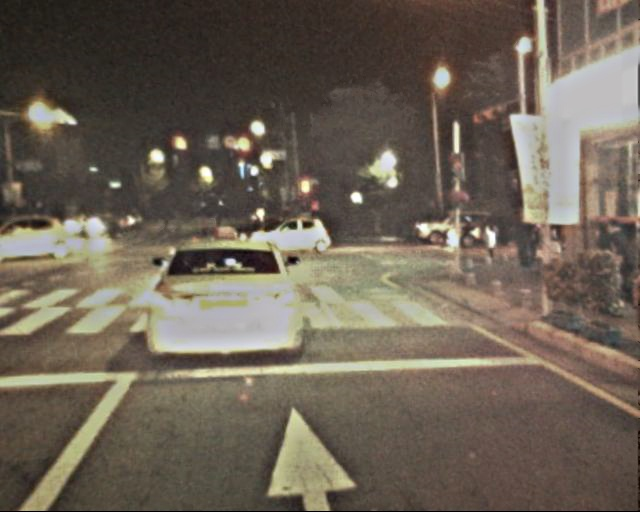person: (598, 213, 631, 311), (518, 210, 542, 274), (480, 220, 500, 271), (153, 207, 167, 242), (196, 209, 210, 243), (209, 209, 223, 243), (168, 210, 181, 242), (109, 210, 121, 240)
